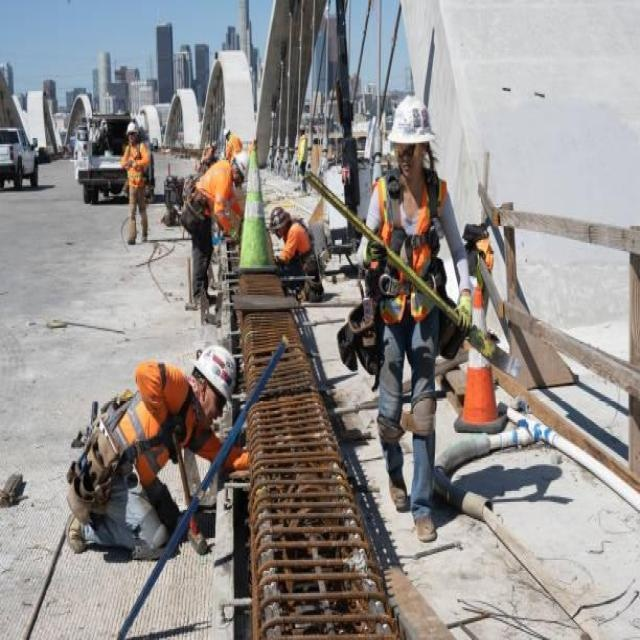Arnes_seguridad: (104, 382, 204, 483), (380, 168, 444, 306)
